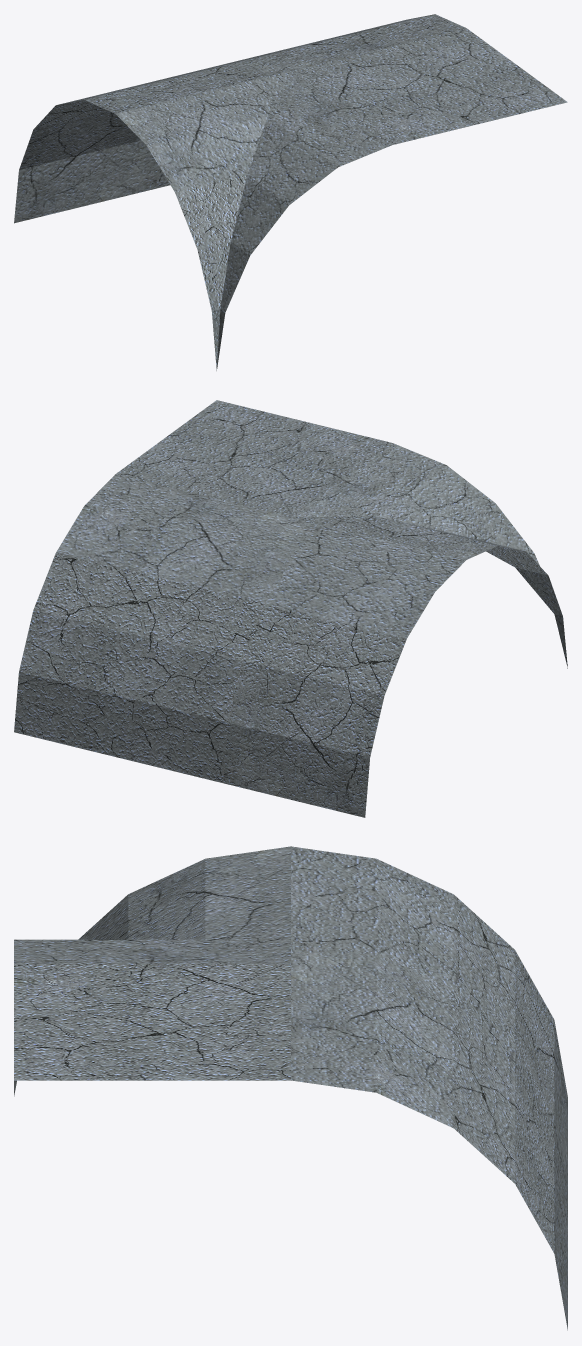
Rendered from ceiling_11.fbx.
3 renders of one model, top to bottom at view 1: azimuth 30°, elevation 25°; view 2: azimuth 150°, elevation 25°; view 3: azimuth 270°, elevation 25°, orthographic. The views are drawn at different scales.
Parts seen in each view (by area): view 1: ceiling_11; view 2: ceiling_11; view 3: ceiling_11.
Part boxes in pixels (x1,y1,x2,y2): ceiling_11: (14, 14, 567, 370); ceiling_11: (14, 400, 567, 817); ceiling_11: (14, 846, 567, 1330).
Size of the model in its own units: 100 by 50 by 100.
